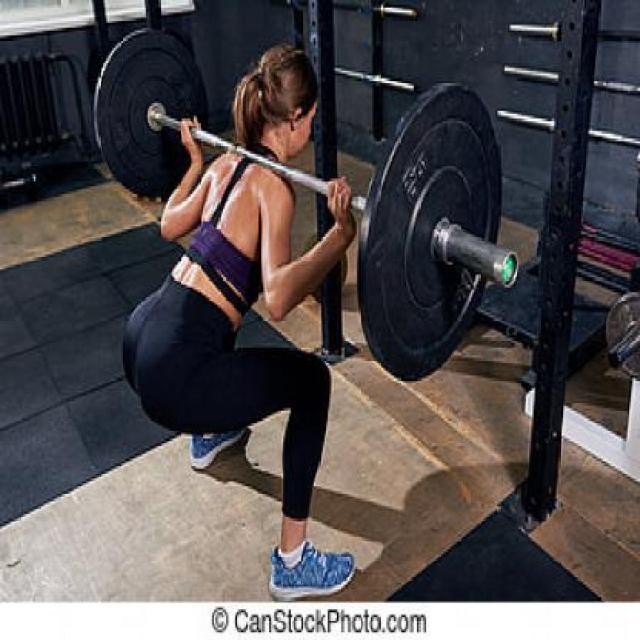Barbell: (498, 248, 522, 289)
